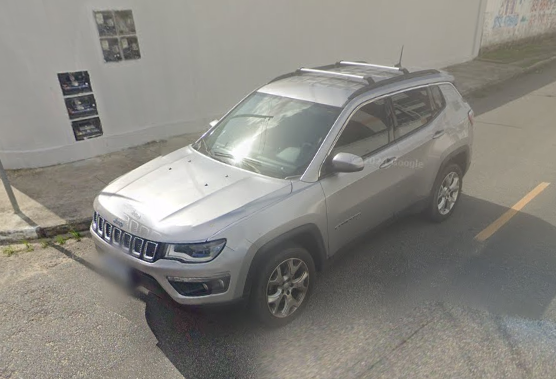car: (88, 44, 477, 326)
